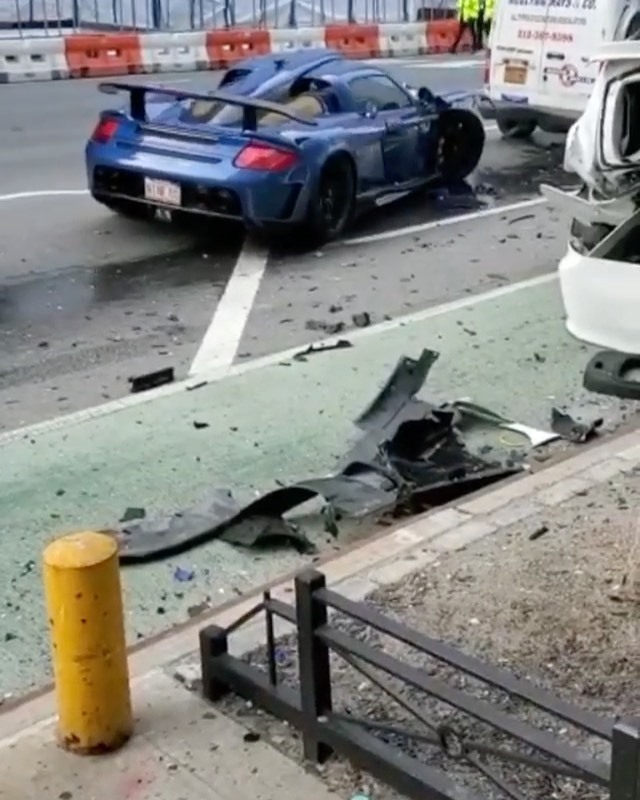car: (87, 48, 494, 266)
street: (9, 66, 640, 593)
